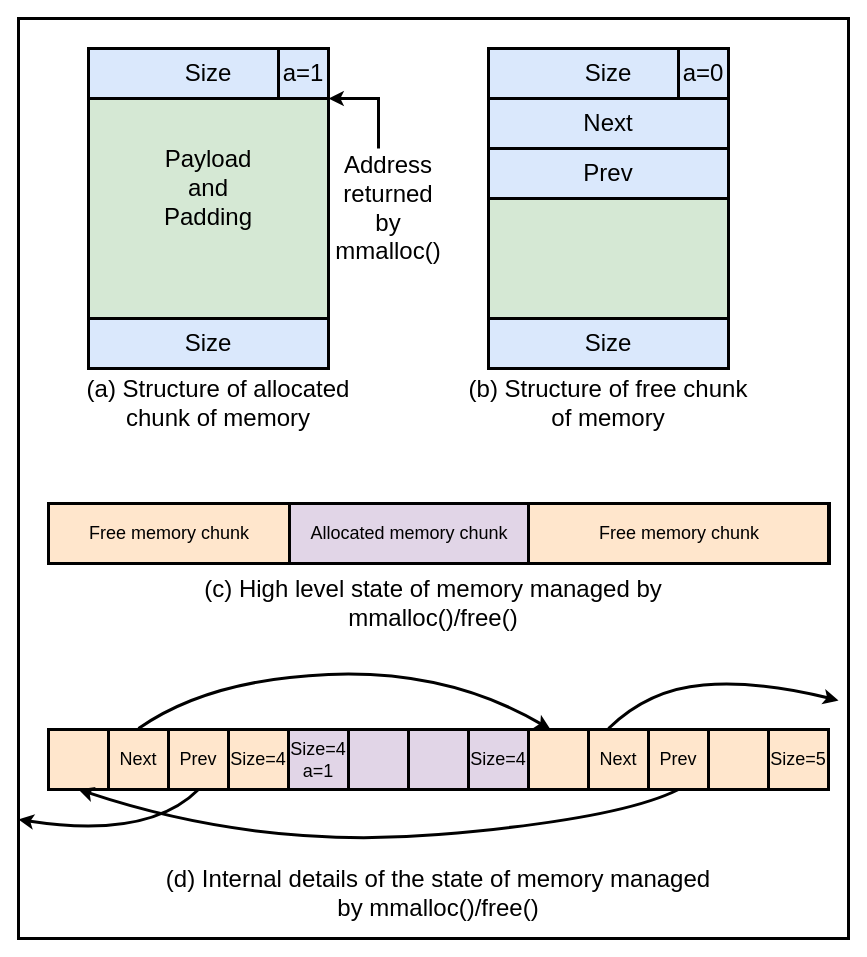
This 867x957 diagram has some shape labels left out. The shapes that lost their labels are listed below. From the top down, each one's centre as x and y in pixels, then its label:
the point at 78,759: Size=4 a=0
the point at 558,759: Size=5 a=0
